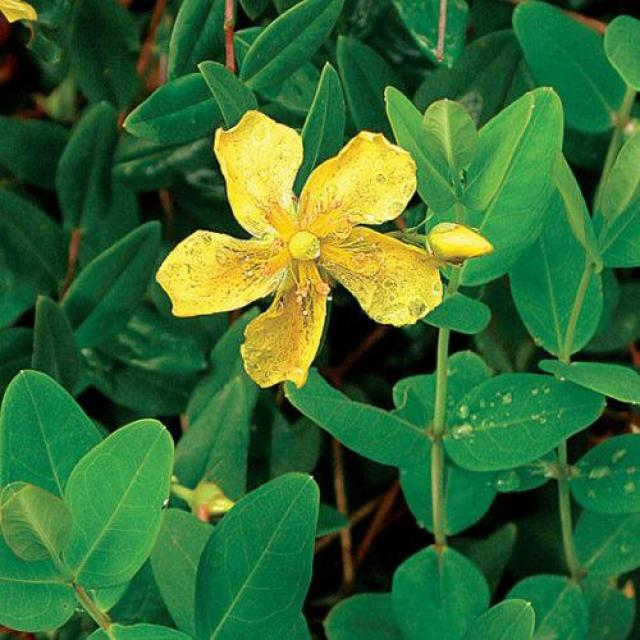organic waste: (152, 119, 474, 390)
